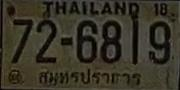1: (130, 16, 138, 63)
2: (35, 19, 56, 62)
6: (77, 19, 96, 62)
7: (12, 18, 32, 63)
8: (100, 19, 120, 62)
9: (148, 20, 170, 64)
SPK: (36, 67, 144, 88)
